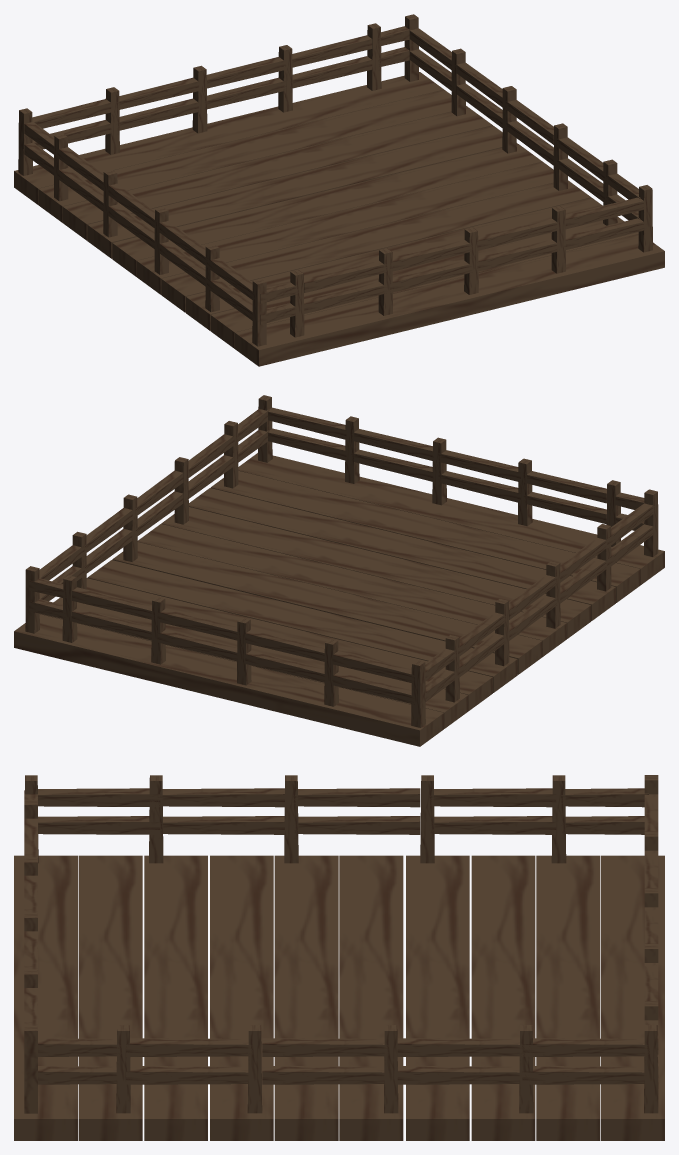
File: deck1.fbx
The picture shows the model from 3 angles, top to bottom: view 1: azimuth 30°, elevation 25°; view 2: azimuth 150°, elevation 25°; view 3: azimuth 270°, elevation 25°; orthographic projection. The views are drawn at different scales.
Visible parts, largest first — view 1: polySurface1223; view 2: polySurface1223; view 3: polySurface1223.
Boxes of the visible parts, bbox=[...] form: polySurface1223: bbox=[14, 14, 664, 366]; polySurface1223: bbox=[14, 395, 664, 746]; polySurface1223: bbox=[14, 775, 664, 1140].
Size of the model in its own units: 1.65 by 0.3036 by 1.72.
